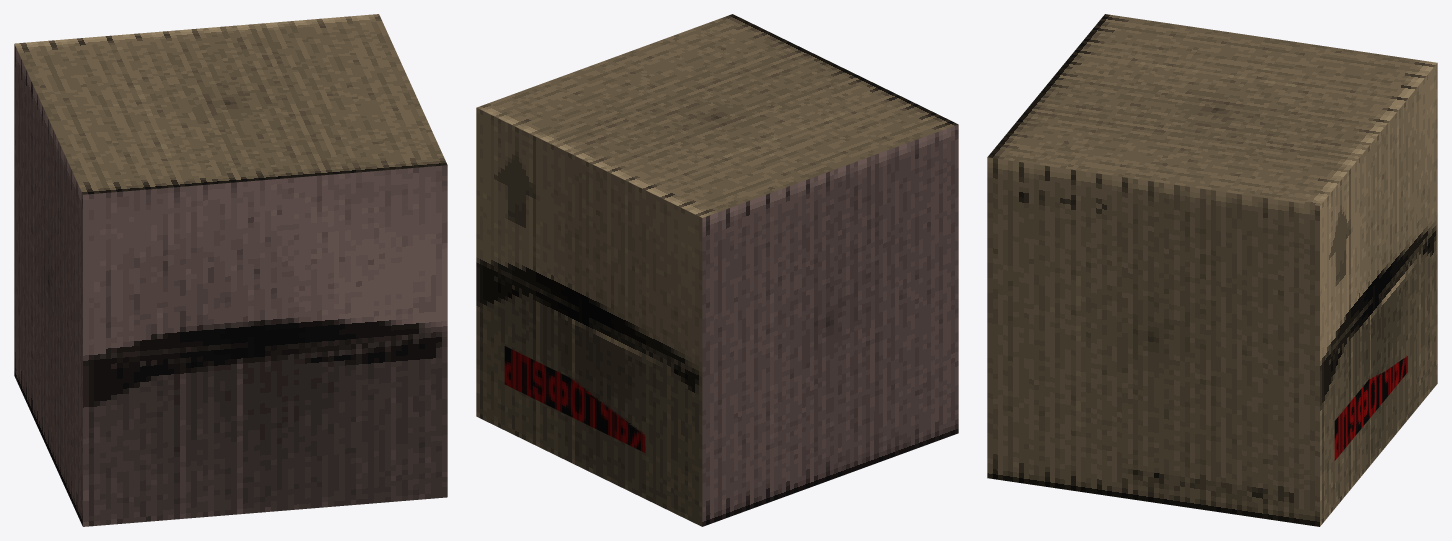
File: primary_252.glb
The picture shows the model from 3 angles, left to right: view 1: azimuth 30°, elevation 25°; view 2: azimuth 150°, elevation 25°; view 3: azimuth 270°, elevation 25°; orthographic projection. The views are drawn at different scales.
Visible parts, largest first — view 1: Object; view 2: Object; view 3: Object.
Boxes of the visible parts, x1=… form: Object: x1=14, y1=14, x2=447, y2=526; Object: x1=476, y1=14, x2=958, y2=526; Object: x1=987, y1=14, x2=1437, y2=526.
Bounding box in the file's own units: 1.4 × 1.09 × 1.39.
7 materials, 7 textured.
